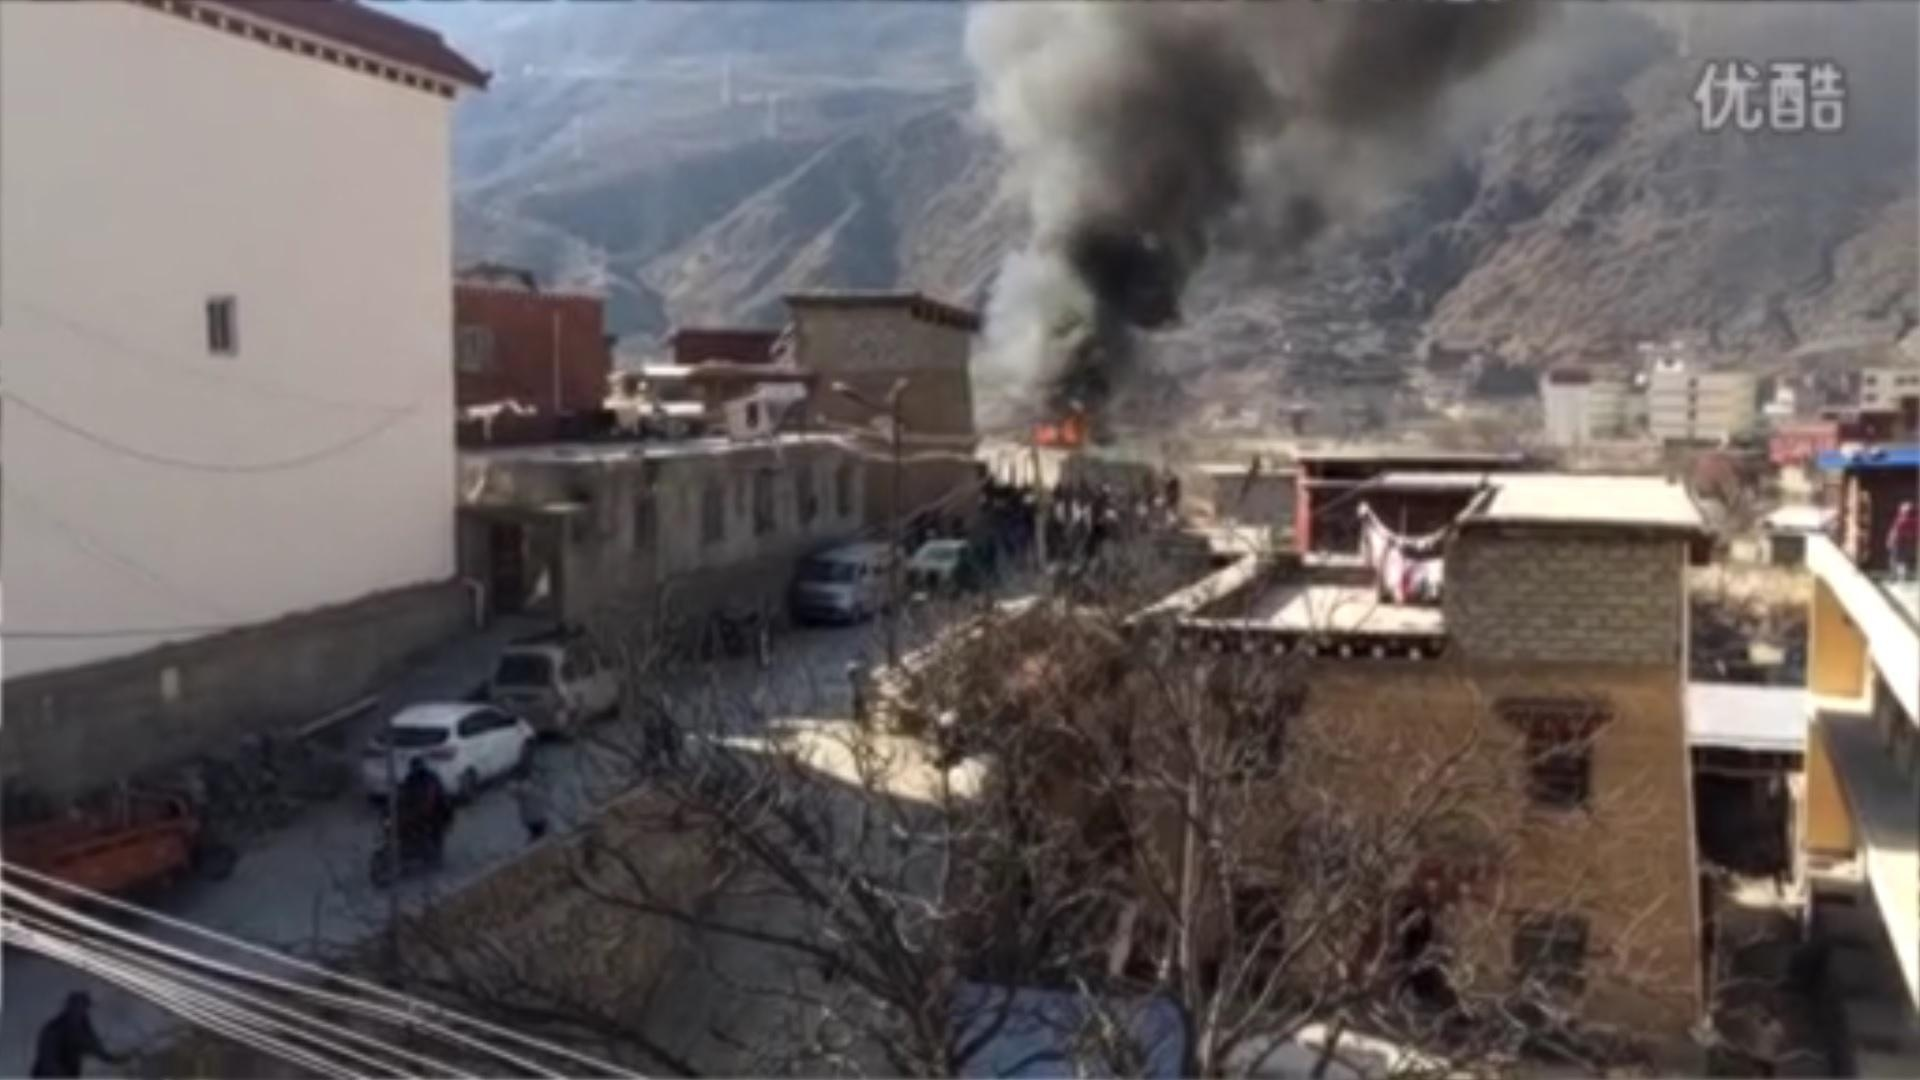fire: (1030, 414, 1087, 447)
